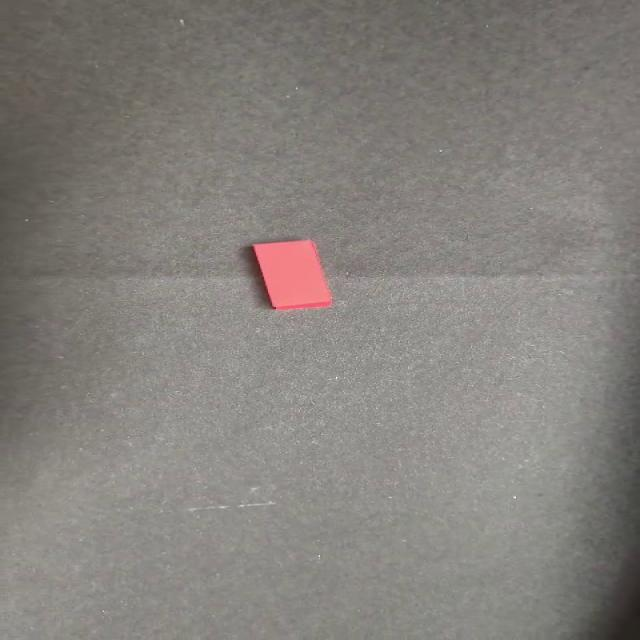red block: (249, 238, 332, 310)
